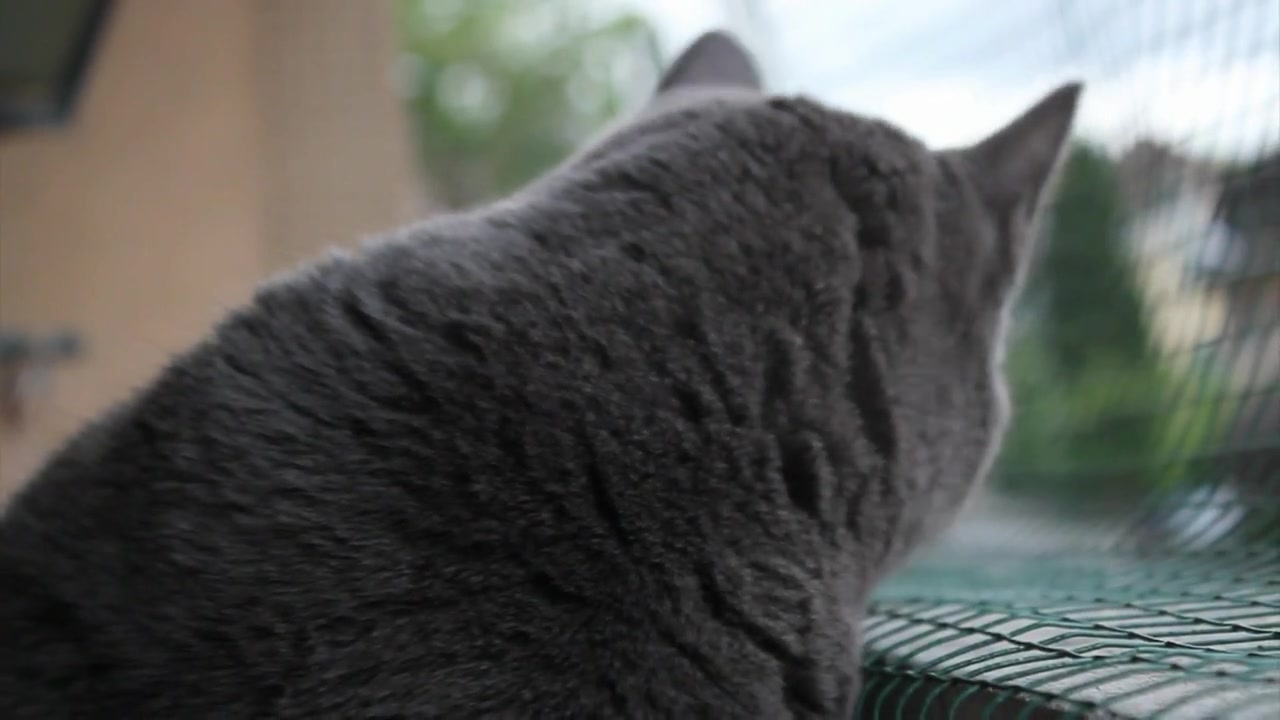cat: (1, 28, 1086, 720)
